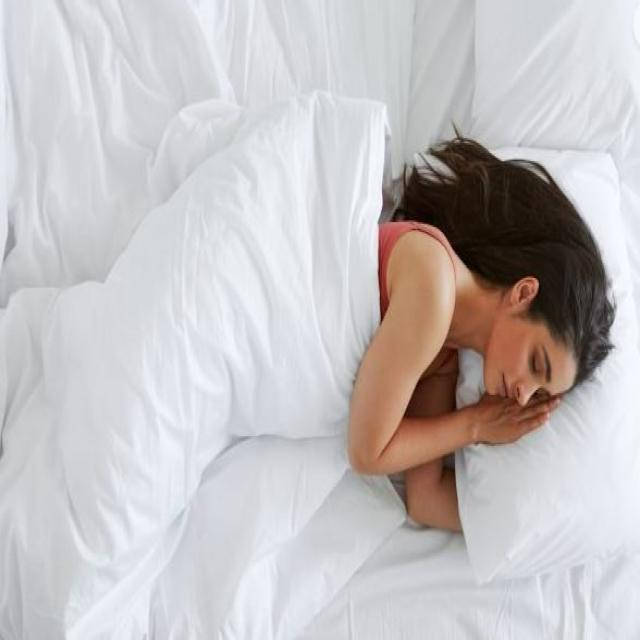people: (2, 95, 620, 601)
